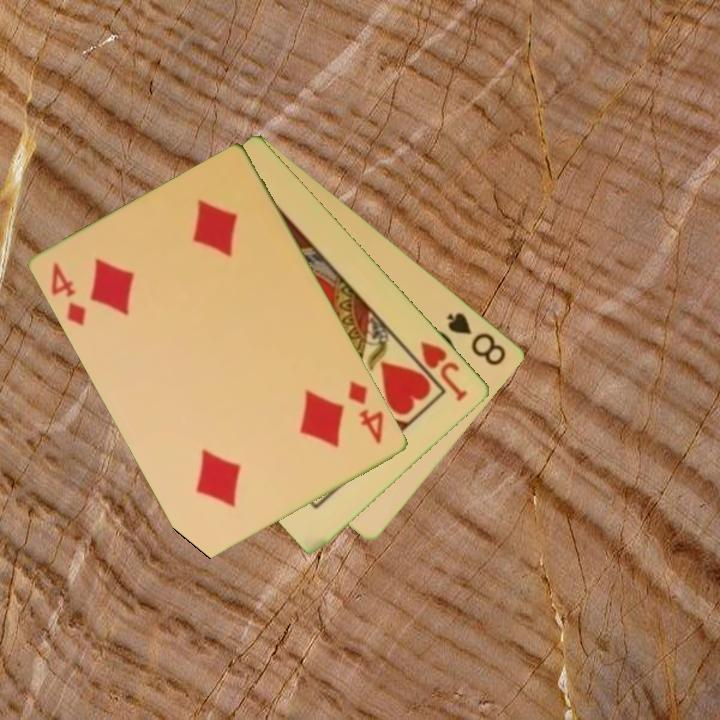4d: (345, 377, 388, 447), (48, 259, 90, 329)
8s: (443, 308, 510, 369)
Jh: (404, 337, 472, 404)
